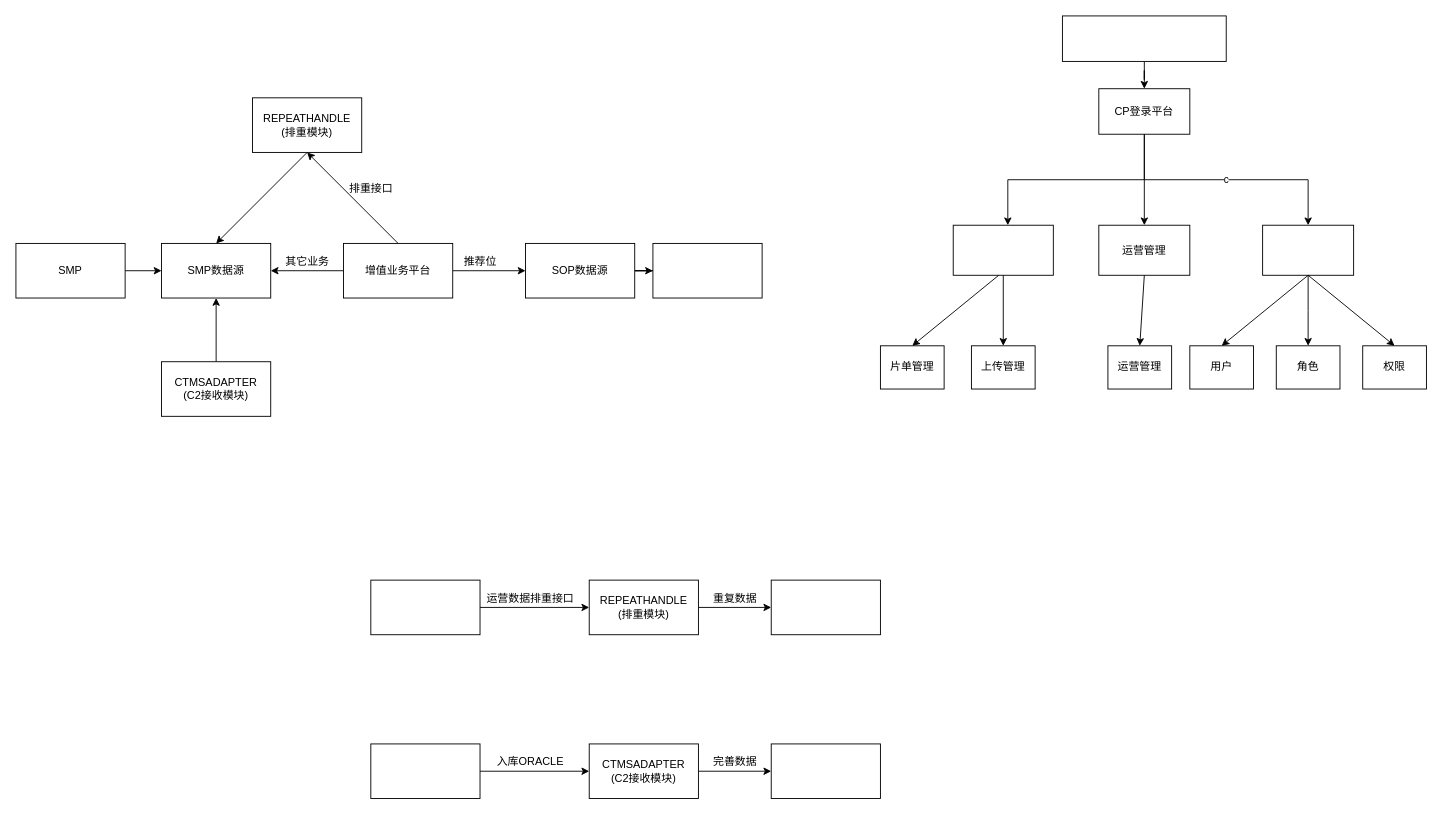
This 1442x814 diagram has some shape labels left out. Here are the shapes that lost their labels. From the top down, the centre of each, then its label:
the point at 1144,38: 超级管理员创建CP用户
the point at 1002,249: 媒资管理
the point at 1308,249: 系统管理
the point at 707,270: SOP
the point at 425,607: 运营片单数据
the point at 825,607: 存储(ORACLE)
the point at 425,771: 上传片单
the point at 825,771: 播控平台
